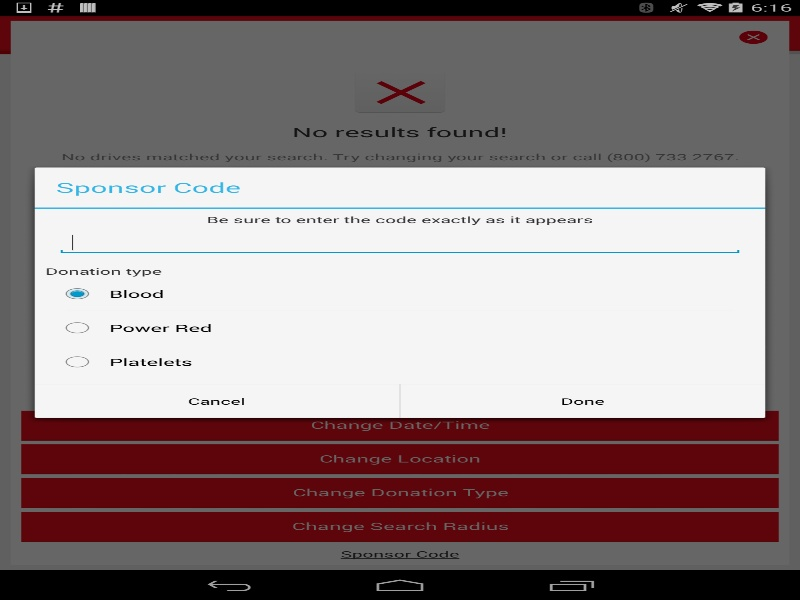Button: (34, 384, 399, 418), (400, 384, 765, 418)
Input: (56, 230, 744, 255)
